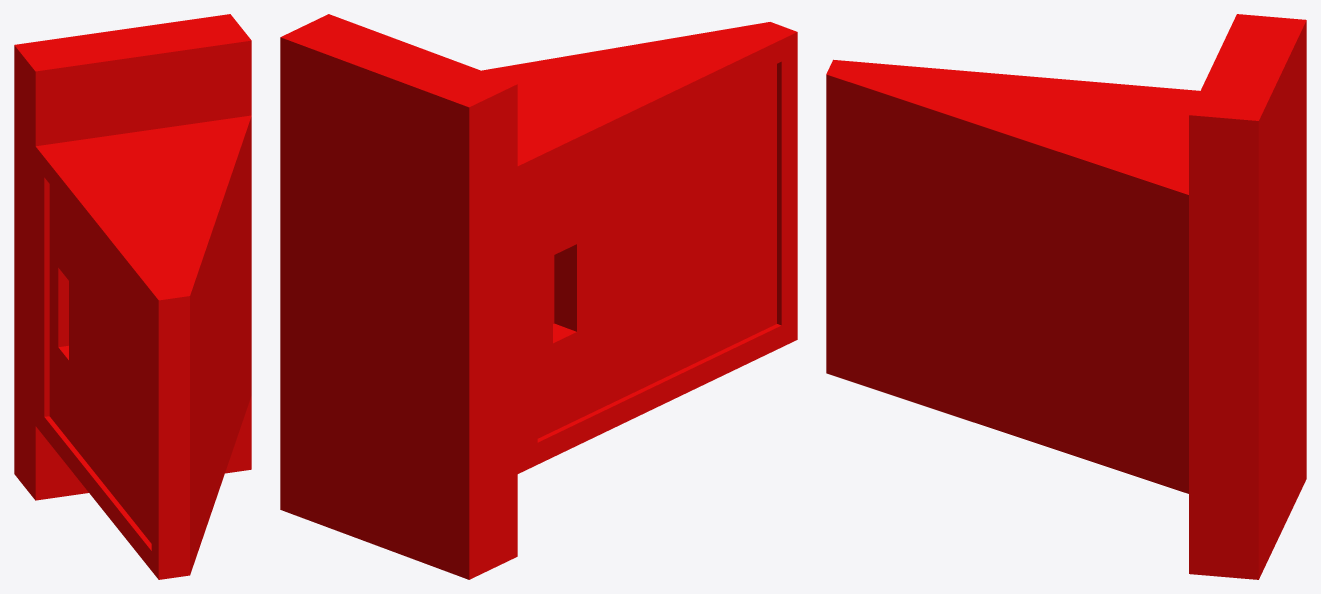
Rendered from gripper001_b.obj.
The picture shows the model from 3 angles, left to right: view 1: azimuth 30°, elevation 25°; view 2: azimuth 150°, elevation 25°; view 3: azimuth 270°, elevation 25°; orthographic projection. The views are drawn at different scales.
Parts seen in each view (by area): view 1: gripper001_b; view 2: gripper001_b; view 3: gripper001_b.
Part boxes in pixels (box(x1,y1,x2,y2)): gripper001_b: box(14, 14, 251, 579); gripper001_b: box(280, 14, 797, 579); gripper001_b: box(826, 14, 1306, 579).
Size of the model in its own units: 28.41 by 43.03 by 40.84.
